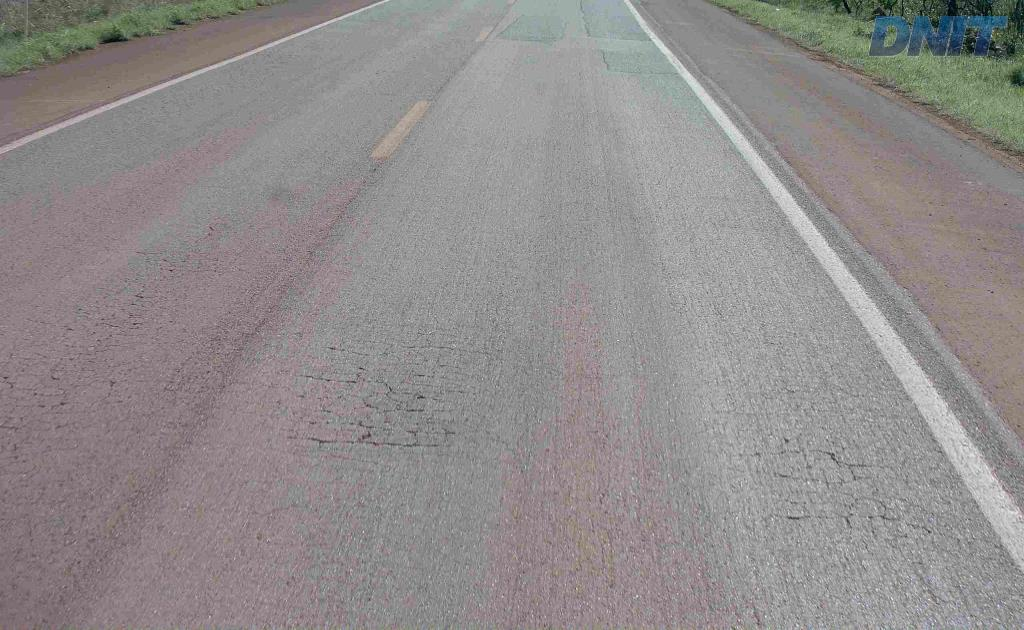crack: (355, 368, 460, 453)
